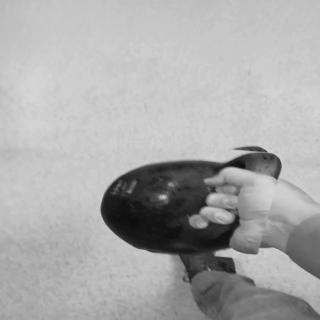kettlebell: (97, 144, 280, 258)
